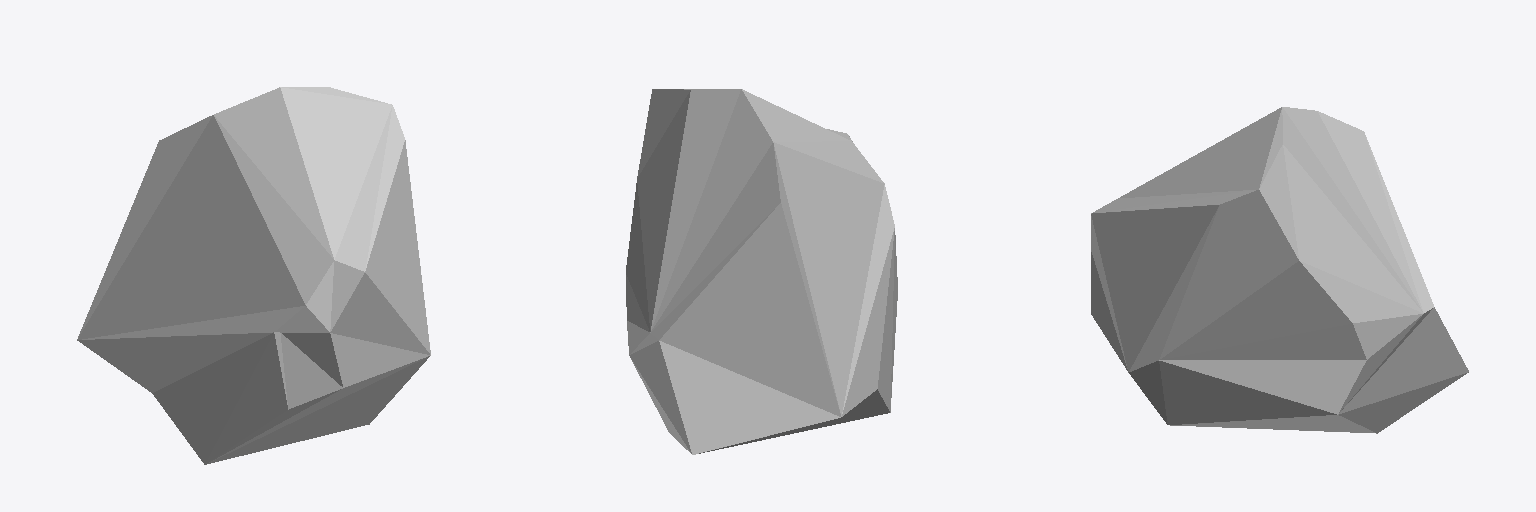
The model's file is Stone_2.obj.
3 views of the same model, side by side, from view 1: azimuth 30°, elevation 25°; view 2: azimuth 150°, elevation 25°; view 3: azimuth 270°, elevation 25° (orthographic).
Parts seen in each view (by area): view 1: Cube.001; view 2: Cube.001; view 3: Cube.001.
Boxes of the visible parts, box(x1,y1,x2,y2) form: Cube.001: box(77, 87, 430, 464); Cube.001: box(626, 89, 897, 454); Cube.001: box(1091, 107, 1468, 433).
Bounding box in the file's own units: 0.295 × 0.3611 × 0.3831.